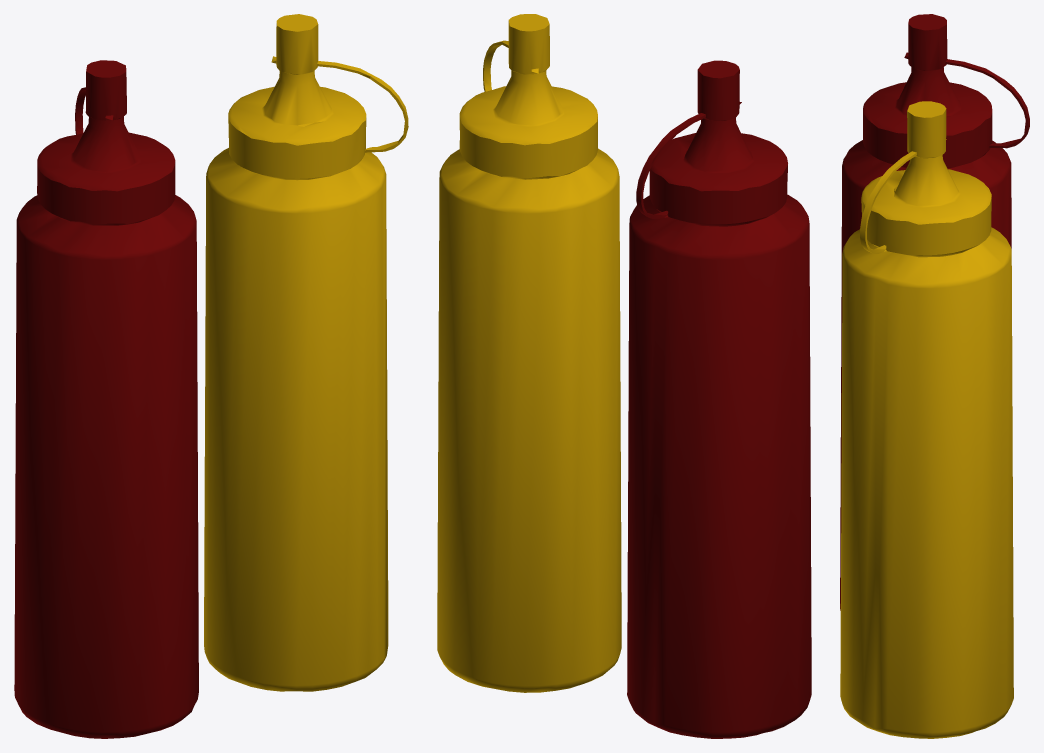
Rendered from Ketchup Mustard.FBX.
The picture shows the model from 3 angles, left to right: view 1: azimuth 30°, elevation 25°; view 2: azimuth 150°, elevation 25°; view 3: azimuth 270°, elevation 25°; orthographic projection. The views are drawn at different scales.
Visible parts, largest first — view 1: Mustard, Ketchup; view 2: Ketchup, Mustard; view 3: Mustard, Ketchup.
Part boxes in pixels (x1,y1,x2,y2): Mustard: (204,14,408,691); Ketchup: (14,60,198,738); Ketchup: (627,60,811,738); Mustard: (437,14,621,692); Mustard: (840,101,1013,738); Ketchup: (840,14,1029,610).
Bounding box in the file's own units: 17.78 × 30.83 × 8.9.
